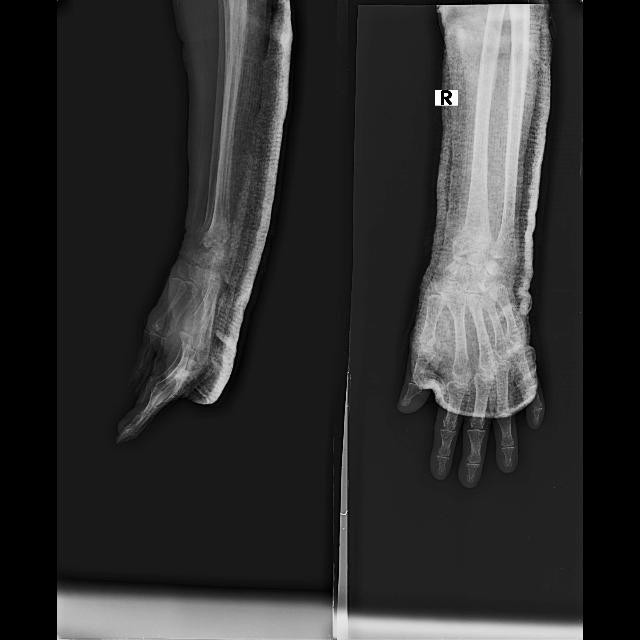fractured: (450, 230, 493, 257), (198, 225, 236, 252)
